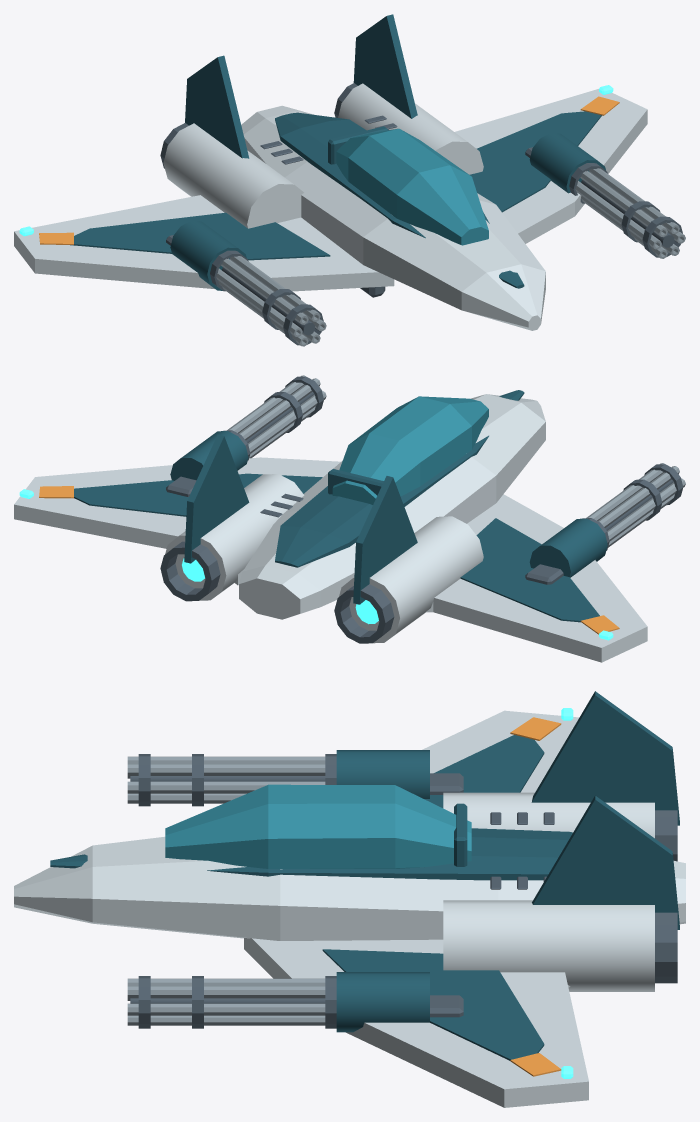
File: player-ship.glb
The picture shows the model from 3 angles, top to bottom: view 1: azimuth 30°, elevation 25°; view 2: azimuth 150°, elevation 25°; view 3: azimuth 270°, elevation 25°; orthographic projection. The views are drawn at different scales.
Visible parts, largest first — view 1: Static_Porcelain alloy, Static_Deep petrol, Static_Blue canopy, Barrel_L_Barrel steel, Barrel_R_Barrel steel, Barrel_L_Dark titanium, Barrel_R_Dark titanium, Static_Dark titanium, Static_Signal amber; view 2: Static_Porcelain alloy, Static_Deep petrol, Static_Blue canopy, Static_Dark titanium, Barrel_R_Barrel steel, Barrel_L_Barrel steel, Barrel_L_Dark titanium, Barrel_R_Dark titanium, Static_Engine cyan, Static_Signal amber; view 3: Static_Porcelain alloy, Static_Deep petrol, Static_Blue canopy, Barrel_R_Barrel steel, Barrel_L_Barrel steel, Static_Dark titanium, Barrel_R_Dark titanium, Barrel_L_Dark titanium, Static_Signal amber.
Boxes of the visible parts, x1=… form: Static_Porcelain alloy: x1=14, y1=83, x2=647, y2=330; Static_Deep petrol: x1=70, y1=14, x2=605, y2=290; Static_Blue canopy: x1=336, y1=128, x2=488, y2=245; Barrel_L_Barrel steel: x1=216, y1=256, x2=326, y2=346; Barrel_R_Barrel steel: x1=575, y1=168, x2=685, y2=258; Barrel_L_Dark titanium: x1=210, y1=250, x2=323, y2=345; Barrel_R_Dark titanium: x1=569, y1=163, x2=682, y2=257; Static_Dark titanium: x1=160, y1=83, x2=532, y2=297; Static_Signal amber: x1=39, y1=96, x2=619, y2=244; Static_Porcelain alloy: x1=14, y1=394, x2=647, y2=662; Static_Deep petrol: x1=74, y1=390, x2=607, y2=622; Static_Blue canopy: x1=332, y1=396, x2=488, y2=504; Static_Dark titanium: x1=160, y1=476, x2=563, y2=643; Barrel_R_Barrel steel: x1=227, y1=375, x2=326, y2=458; Barrel_L_Barrel steel: x1=586, y1=463, x2=685, y2=547; Barrel_L_Dark titanium: x1=582, y1=464, x2=683, y2=550; Barrel_R_Dark titanium: x1=223, y1=376, x2=323, y2=460; Static_Engine cyan: x1=19, y1=489, x2=613, y2=640; Static_Signal amber: x1=39, y1=486, x2=619, y2=634; Static_Porcelain alloy: x1=14, y1=710, x2=685, y2=1107; Static_Deep petrol: x1=50, y1=691, x2=679, y2=1060; Static_Blue canopy: x1=165, y1=784, x2=471, y2=868; Barrel_R_Barrel steel: x1=127, y1=978, x2=325, y2=1025; Barrel_L_Barrel steel: x1=127, y1=756, x2=325, y2=803; Static_Dark titanium: x1=430, y1=773, x2=677, y2=1017; Barrel_R_Dark titanium: x1=130, y1=976, x2=336, y2=1028; Barrel_L_Dark titanium: x1=130, y1=754, x2=336, y2=806; Static_Signal amber: x1=510, y1=717, x2=561, y2=1076.
Size of the model in its own units: 7.4 by 1.96 by 5.55.
